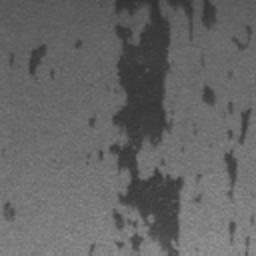Red iron sheet: (97, 0, 218, 256), (201, 86, 252, 187), (8, 45, 55, 78), (232, 23, 253, 52), (1, 202, 15, 219), (225, 67, 236, 79), (87, 242, 97, 255), (74, 40, 84, 50), (229, 221, 236, 234), (87, 116, 95, 127)
